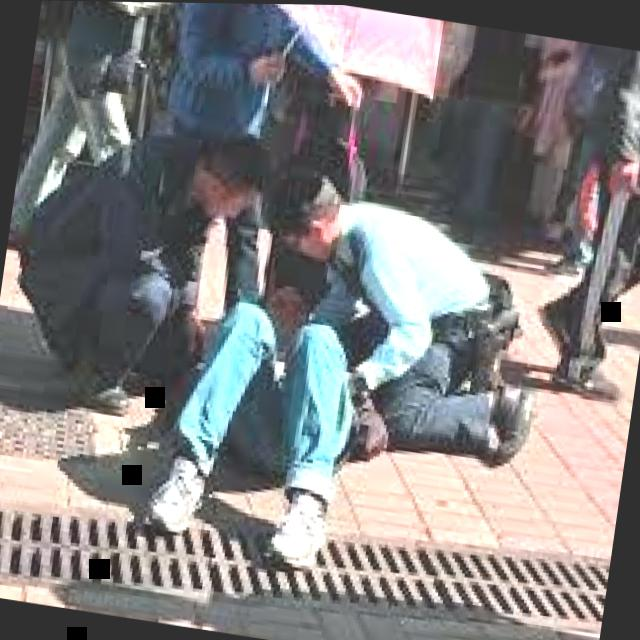Fall-Detected: (94, 232, 416, 589)
